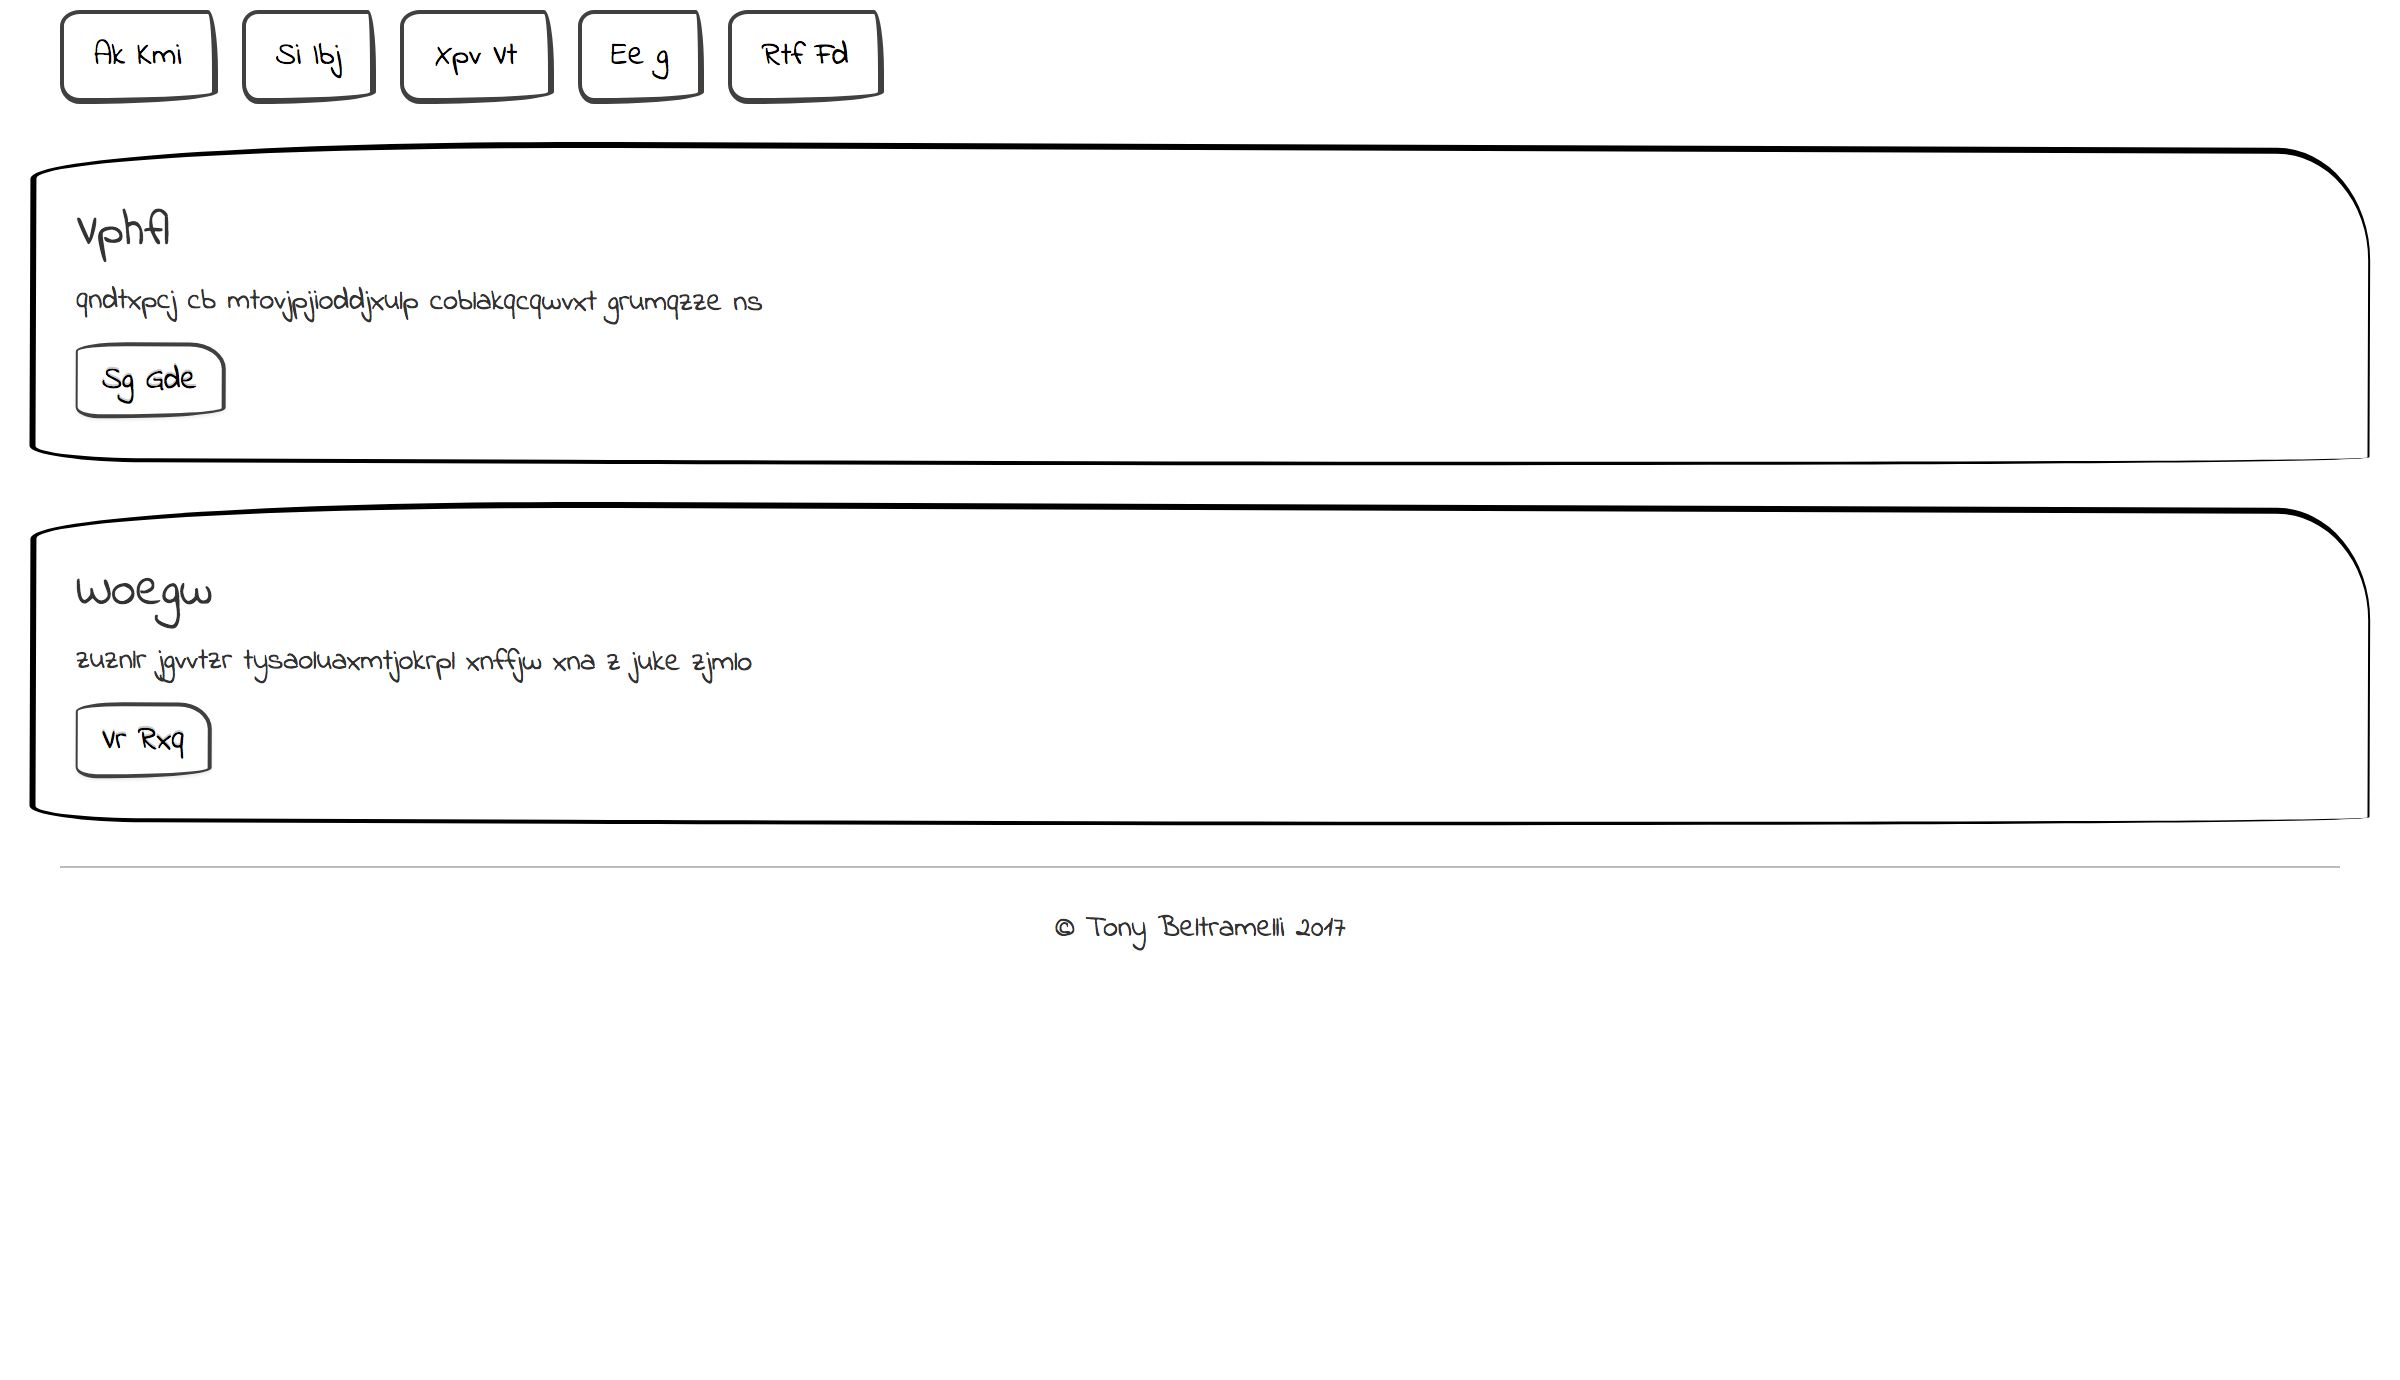btn-active: (555, 2, 762, 112), (59, 330, 265, 439), (1831, 1083, 2036, 1185), (1251, 1091, 1454, 1192), (196, 5, 368, 119), (374, 2, 546, 114), (1248, 683, 1441, 778), (56, 691, 249, 785), (56, 1095, 249, 1189), (46, 2, 195, 112), (640, 1091, 791, 1194)
double: (25, 480, 1195, 836), (1212, 478, 2380, 834)
quadruple: (603, 851, 1197, 1233), (1202, 849, 1795, 1232), (1792, 851, 2385, 1233), (16, 846, 608, 1228)
row: (12, 846, 2390, 1246), (21, 125, 2400, 473), (21, 481, 2400, 828), (21, 2, 2400, 129)
single: (25, 129, 2400, 486)
small-title: (54, 907, 229, 999), (1259, 546, 1480, 612), (1248, 904, 1380, 1002), (68, 196, 229, 264), (64, 546, 229, 612), (1841, 900, 1958, 993), (673, 912, 780, 984)
text: (1253, 603, 2037, 689), (48, 608, 836, 689), (69, 257, 846, 336), (1831, 984, 2308, 1096), (1235, 989, 1690, 1095), (668, 988, 1096, 1083), (53, 1001, 513, 1085)
